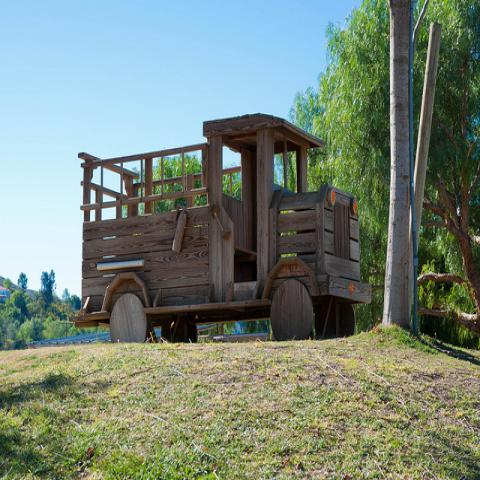truck: (77, 119, 371, 347)
